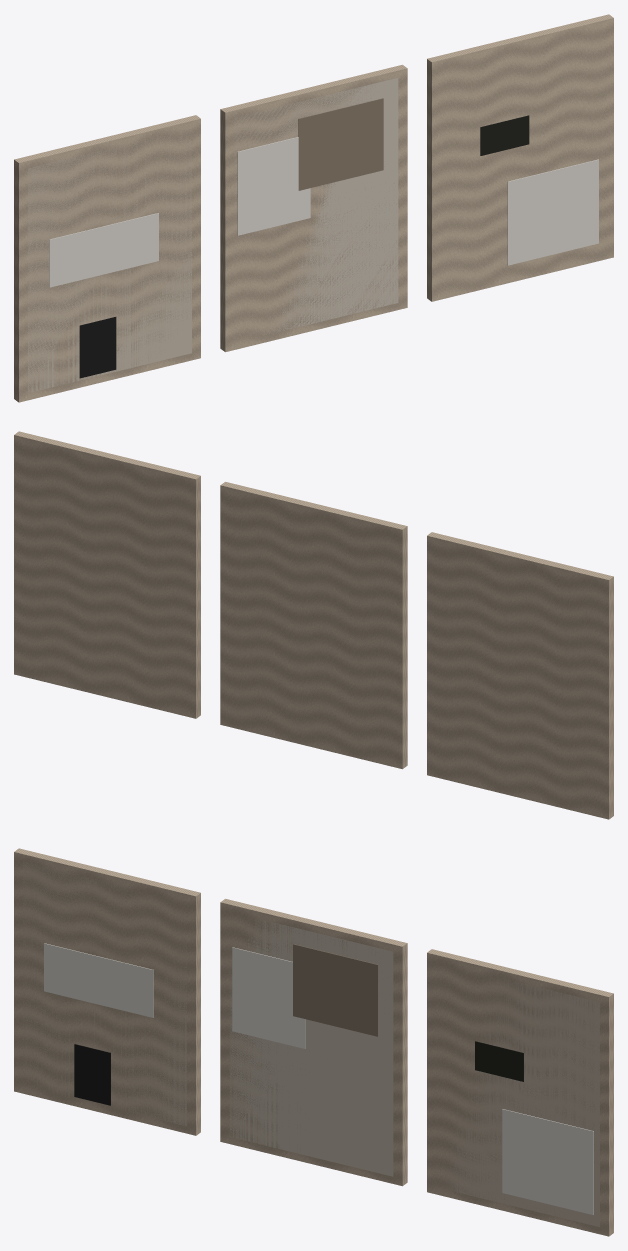
3 views of the same model, one above another, from view 1: azimuth 30°, elevation 25°; view 2: azimuth 150°, elevation 25°; view 3: azimuth 330°, elevation 25° (orthographic).
Parts seen in each view (by area): view 1: 9 right_frame, 1 left_frame, 5 center_frame, 6 center_canvas, 2 left_canvas, 12 right_accent_white, 7 center_accent_taupe, 8 center_accent_white, 3 left_accent_white, 4 left_accent_black, 11 right_accent_black; view 2: 5 center_frame, 1 left_frame, 9 right_frame; view 3: 1 left_frame, 9 right_frame, 6 center_canvas, 10 right_canvas, 5 center_frame, 12 right_accent_white, 7 center_accent_taupe, 8 center_accent_white, 2 left_canvas, 3 left_accent_white, 4 left_accent_black, 11 right_accent_black.
Part boxes in pixels (<box>): 9 right_frame: <box>427,14,613,301</box>; 1 left_frame: <box>14,115,200,402</box>; 5 center_frame: <box>220,64,407,352</box>; 6 center_canvas: <box>234,78,398,334</box>; 2 left_canvas: <box>28,128,191,392</box>; 12 right_accent_white: <box>507,159,598,265</box>; 7 center_accent_taupe: <box>298,98,383,190</box>; 8 center_accent_white: <box>237,137,310,235</box>; 3 left_accent_white: <box>49,213,158,287</box>; 4 left_accent_black: <box>79,317,116,378</box>; 11 right_accent_black: <box>480,115,529,155</box>; 5 center_frame: <box>220,481,407,769</box>; 1 left_frame: <box>427,532,613,819</box>; 9 right_frame: <box>14,431,200,718</box>; 1 left_frame: <box>14,848,200,1135</box>; 9 right_frame: <box>427,949,613,1236</box>; 6 center_canvas: <box>229,919,393,1176</box>; 10 right_canvas: <box>442,974,599,1226</box>; 5 center_frame: <box>220,898,407,1186</box>; 12 right_accent_white: <box>502,1109,593,1214</box>; 7 center_accent_taupe: <box>293,944,378,1036</box>; 8 center_accent_white: <box>232,947,305,1048</box>; 2 left_canvas: <box>23,861,186,1125</box>; 3 left_accent_white: <box>44,943,153,1017</box>; 4 left_accent_black: <box>74,1044,110,1105</box>; 11 right_accent_black: <box>475,1041,523,1081</box>.
Bounding box in the file's own units: 2.6 × 1 × 0.04.
9 materials, 1 textured.
